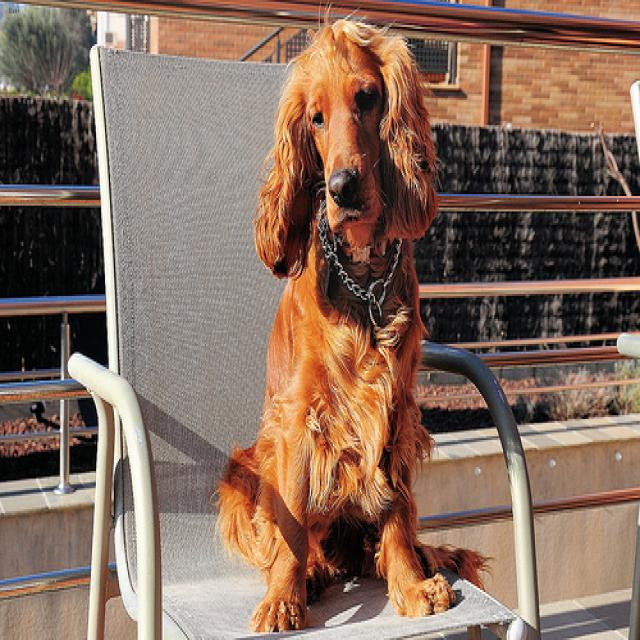dog-english_cocker_spaniel: (206, 2, 500, 636)
